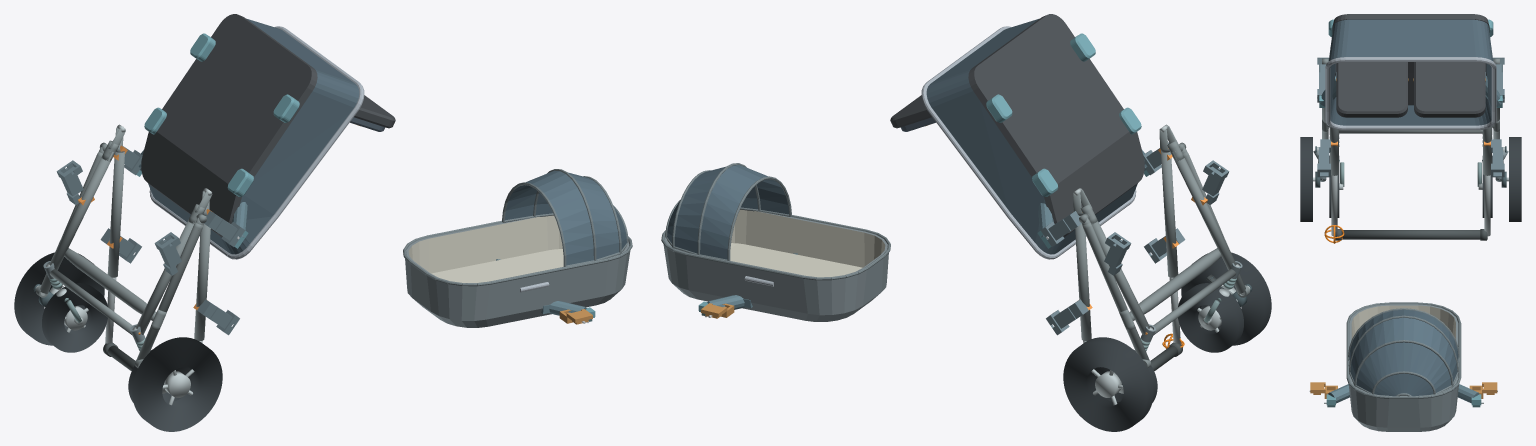
Rendered from D31_w650_state3_wheel_M.glb.
3 renders of one model, left to right at view 1: azimuth 30°, elevation 25°; view 2: azimuth 150°, elevation 25°; view 3: azimuth 270°, elevation 25°, orthographic. The views are drawn at different scales.
Visible parts, largest first — view 1: D31_Lower, D31_Upper, RL_tire.011, FR_tire.011, RR_tire.011, main_upper_1.012, main_lower_1.012, V46_rearbar.011, V46_rear_leg_-1.011, main_upper_-1.012, main_lower_-1.012, front_fixed_round_tube.011 (+4 smaller); view 2: D31_Lower, D31_Upper, RR_tire.011, FL_tire.011, RL_tire.011, main_upper_-1.012, main_lower_-1.012, V46_rearbar.011, V46_rear_leg_1.011, main_upper_1.012, main_lower_1.012, front_fixed_round_tube.011 (+4 smaller); view 3: D31_Lower, D31_Upper, round_handle.013, RL_tire.011, RR_tire.011, D31_Upper_Mount_H, front_fixed_round_tube.011, Universal_Cabin_Receiver_H_1, Universal_Cabin_Receiver_H_-1, handle_slider_1.013, handle_slider_-1.013, main_upper_1.012 (+8 smaller).
Boxes of the visible parts, x1=… form: D31_Lower: x1=141, y1=14, x2=395, y2=259; D31_Upper: x1=403, y1=169, x2=632, y2=327; RL_tire.011: x1=132, y1=337, x2=222, y2=431; FR_tire.011: x1=42, y1=283, x2=107, y2=352; RR_tire.011: x1=14, y1=252, x2=104, y2=345; main_upper_1.012: x1=107, y1=152, x2=124, y2=277; main_lower_1.012: x1=49, y1=152, x2=113, y2=269; V46_rearbar.011: x1=64, y1=248, x2=156, y2=320; V46_rear_leg_-1.011: x1=136, y1=222, x2=203, y2=360; main_upper_-1.012: x1=194, y1=216, x2=210, y2=340; main_lower_-1.012: x1=136, y1=220, x2=196, y2=334; front_fixed_round_tube.011: x1=49, y1=269, x2=132, y2=335; D31_Lower: x1=890, y1=14, x2=1144, y2=259; D31_Upper: x1=661, y1=163, x2=890, y2=321; RR_tire.011: x1=1063, y1=337, x2=1153, y2=431; FL_tire.011: x1=1178, y1=283, x2=1243, y2=352; RL_tire.011: x1=1181, y1=252, x2=1271, y2=345; main_upper_-1.012: x1=1161, y1=152, x2=1178, y2=277; main_lower_-1.012: x1=1172, y1=152, x2=1236, y2=269; V46_rearbar.011: x1=1129, y1=248, x2=1221, y2=320; V46_rear_leg_1.011: x1=1082, y1=222, x2=1149, y2=360; main_upper_1.012: x1=1075, y1=216, x2=1091, y2=340; main_lower_1.012: x1=1089, y1=219, x2=1149, y2=334; front_fixed_round_tube.011: x1=1153, y1=269, x2=1236, y2=335; D31_Lower: x1=1325, y1=14, x2=1496, y2=130; D31_Upper: x1=1346, y1=302, x2=1461, y2=431; round_handle.013: x1=1341, y1=230, x2=1487, y2=239; RL_tire.011: x1=1300, y1=137, x2=1312, y2=221; RR_tire.011: x1=1509, y1=137, x2=1521, y2=221; D31_Upper_Mount_H: x1=1324, y1=384, x2=1483, y2=407; front_fixed_round_tube.011: x1=1339, y1=130, x2=1482, y2=133; Universal_Cabin_Receiver_H_1: x1=1491, y1=139, x2=1504, y2=177; Universal_Cabin_Receiver_H_-1: x1=1317, y1=139, x2=1330, y2=177; handle_slider_1.013: x1=1484, y1=175, x2=1490, y2=236; handle_slider_-1.013: x1=1331, y1=175, x2=1337, y2=236; main_upper_1.012: x1=1483, y1=127, x2=1491, y2=175.
Size of the model in its own units: 1.94 by 1.09 by 0.781.
